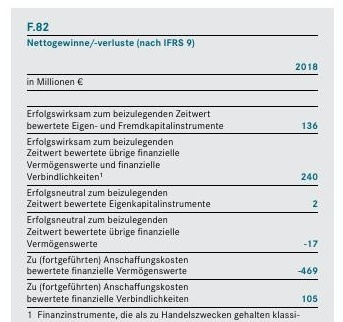table: (0, 0, 343, 322)
